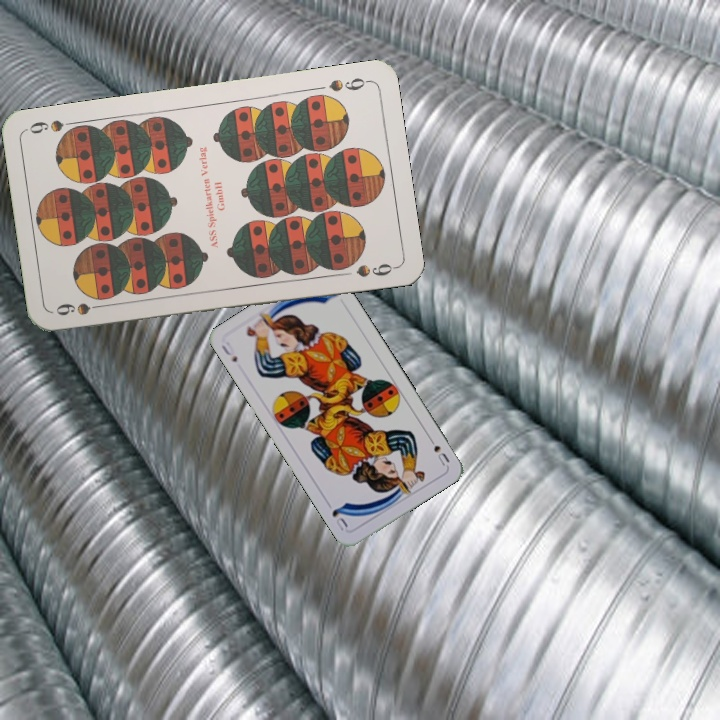S9: (51, 298, 111, 319), (325, 74, 372, 94)
SU: (424, 432, 452, 469), (217, 337, 240, 365)
